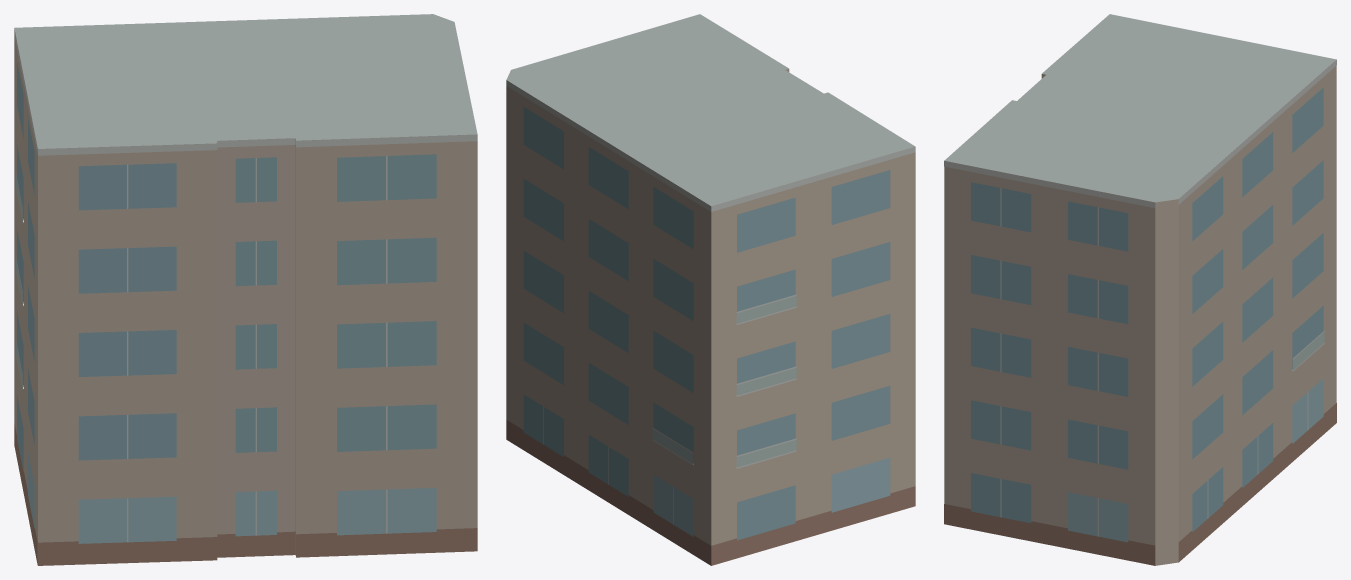
The model's file is survey-upis-32525610.glb.
The picture shows the model from 3 angles, left to right: view 1: azimuth 30°, elevation 25°; view 2: azimuth 150°, elevation 25°; view 3: azimuth 270°, elevation 25°; orthographic projection. The views are drawn at different scales.
Visible parts, largest first — view 1: survey-upis-32525610.tmp; view 2: survey-upis-32525610.tmp; view 3: survey-upis-32525610.tmp.
Boxes of the visible parts, <box> form: survey-upis-32525610.tmp: <box>14,14,477,565</box>; survey-upis-32525610.tmp: <box>506,14,915,565</box>; survey-upis-32525610.tmp: <box>944,14,1336,565</box>.
Bounding box in the file's own units: 16.96 × 15.25 × 14.94.
